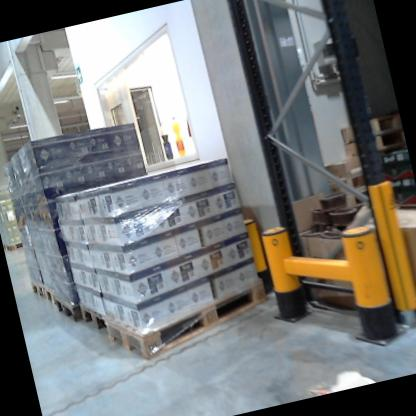pallet: (102, 269, 278, 368), (77, 294, 114, 341), (55, 290, 85, 327), (28, 277, 47, 301), (44, 283, 61, 308), (6, 238, 29, 255), (3, 241, 10, 255)
